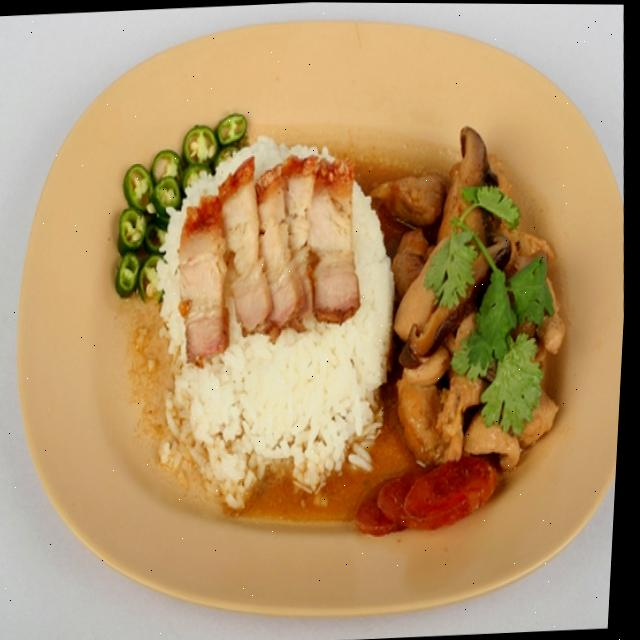米饭主食: (23, 37, 627, 595)
